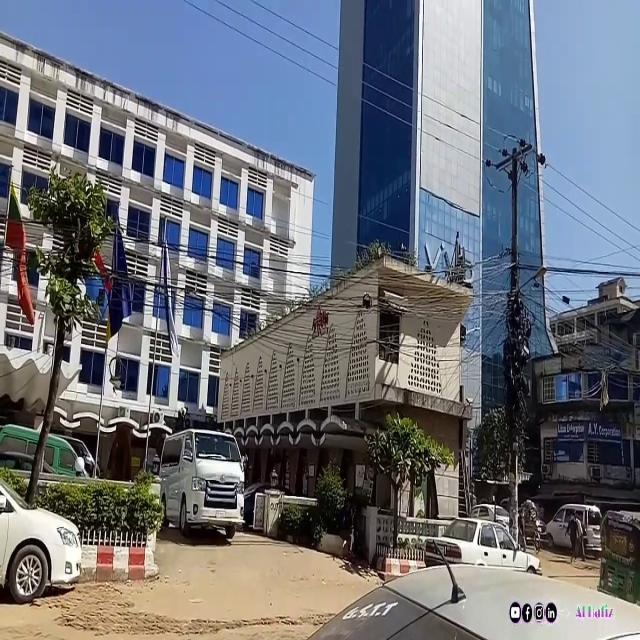white: (158, 422, 246, 544), (428, 516, 540, 593), (550, 501, 604, 560)
